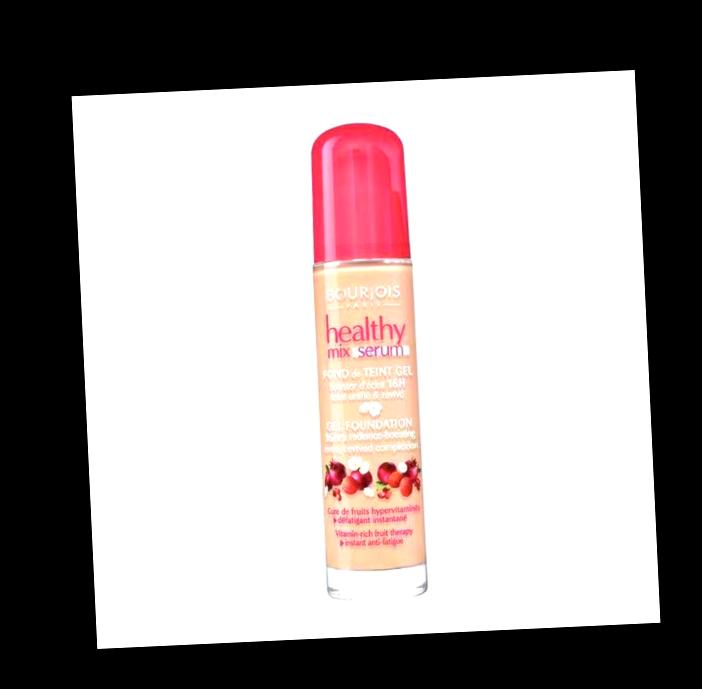cosmetic: (301, 120, 429, 598)
